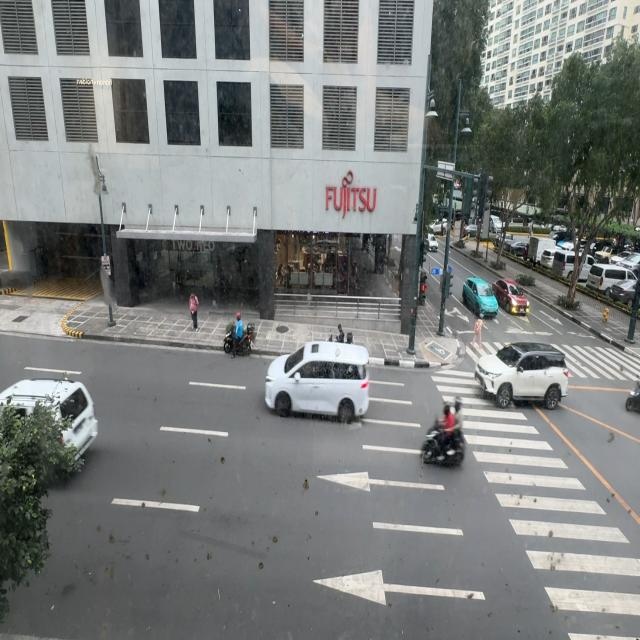crossing: (471, 316, 483, 350)
pedestrain: (190, 293, 199, 331)
